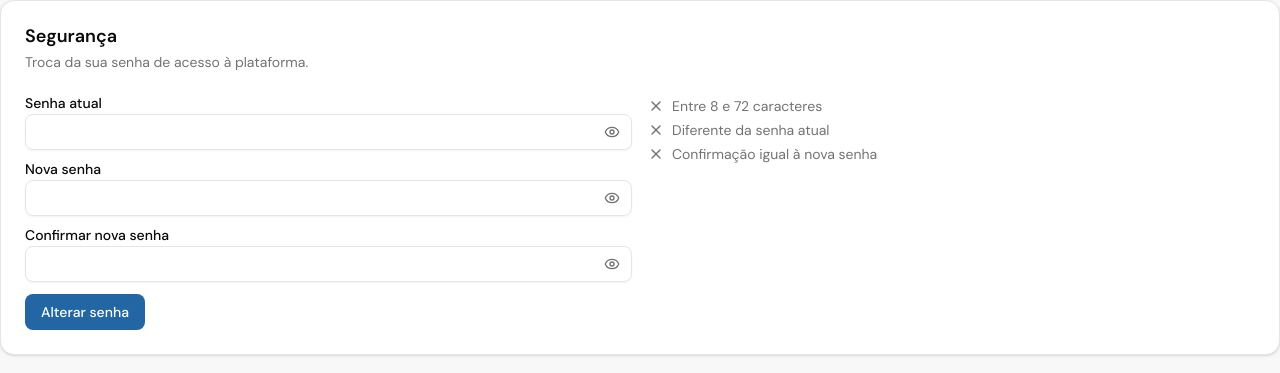
SegurancaSection — ligada (só no teste) › 204 → sucesso, com toast
Type "antiga-123456" into the password field labelled "Senha atual". click: (328,132)
box: [25,114,632,150]
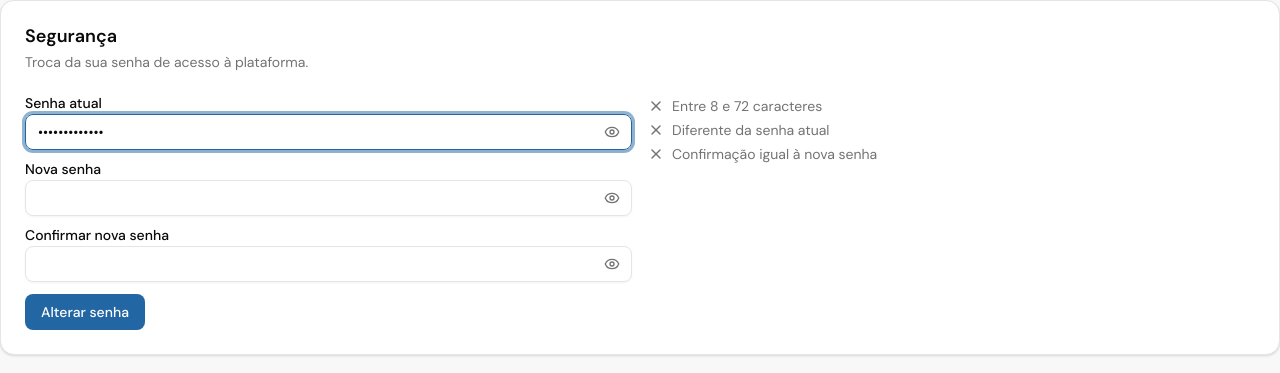
Type "NovaSenha-2026x" into the password field labelled "Nova senha". click: (328,198)
box: [25,180,632,216]
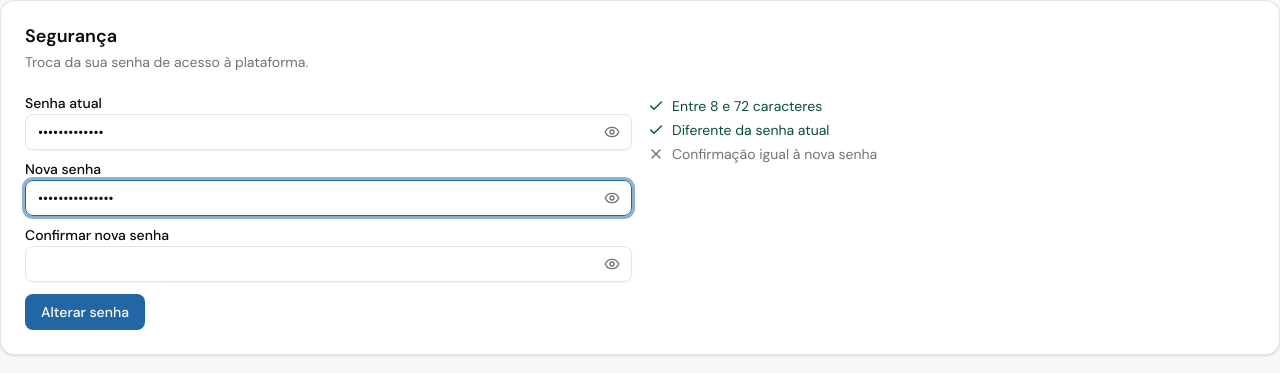
Type "NovaSenha-2026x" into the password field labelled "Confirmar nova senha". click: (328,264)
box: [25,246,632,282]
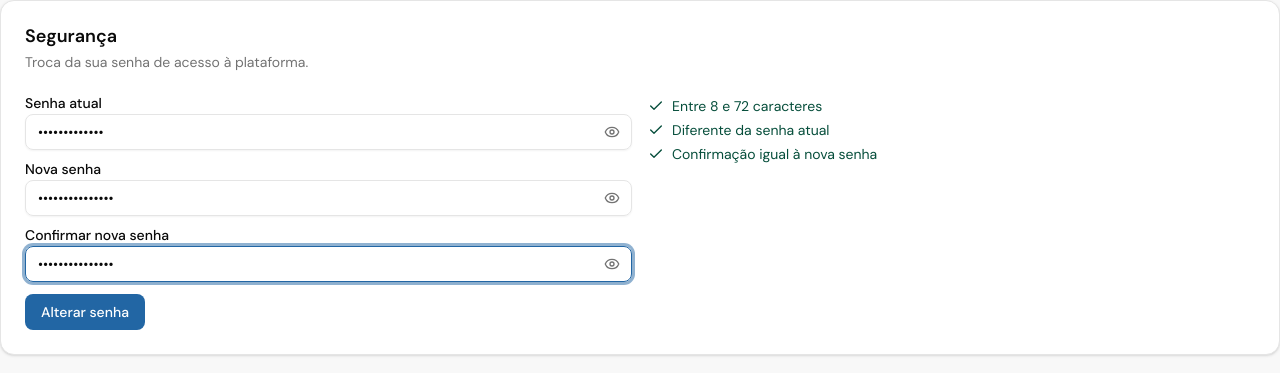
Click the button "Alterar senha". click: (85,312)
box: [25,294,145,330]
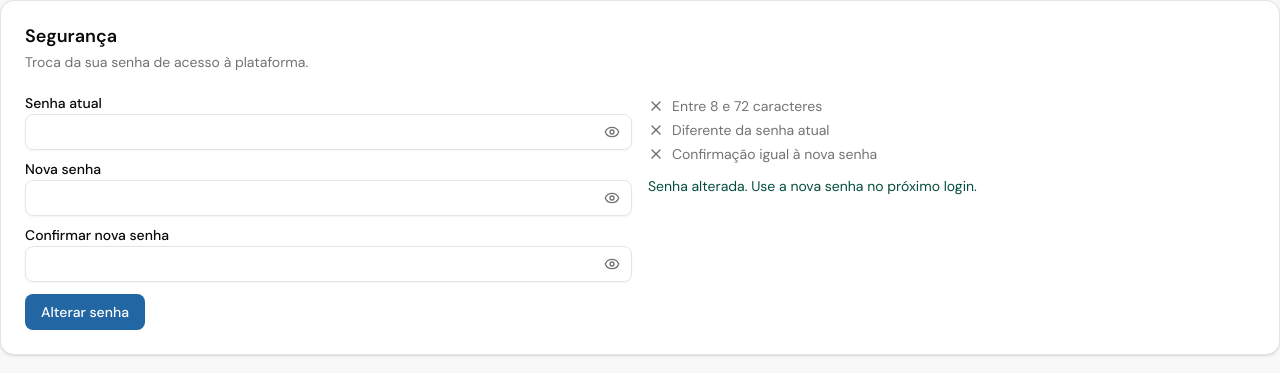
Now the text "Senha alterada. Use a nova senha no próximo login." is shown, box [648,176,977,194]
